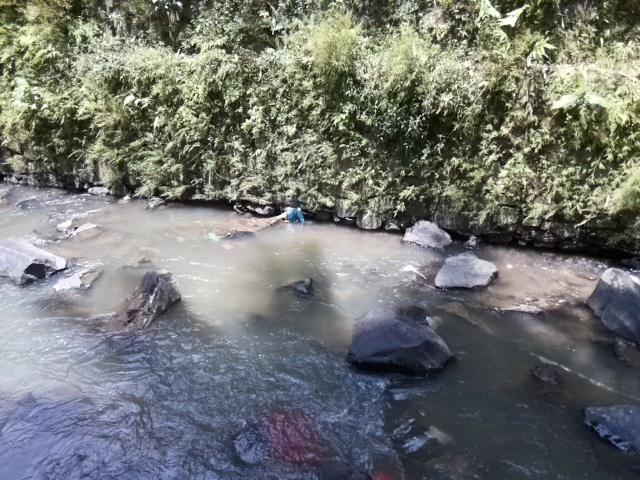Sampah_Plastik: (283, 204, 306, 226)
